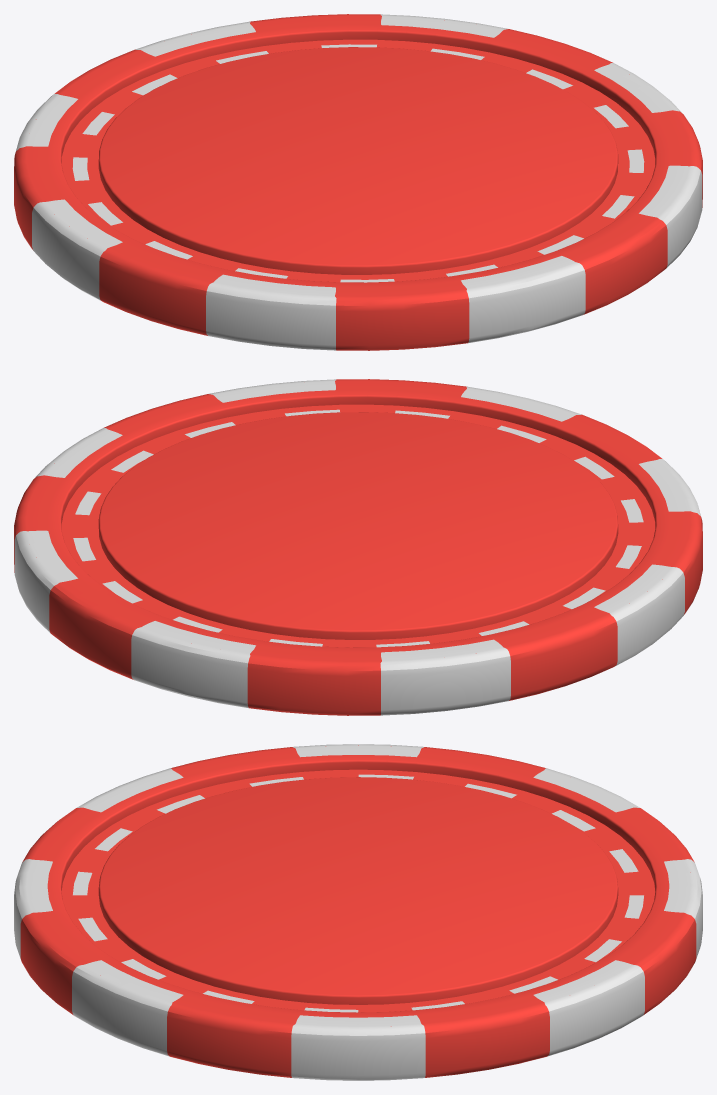
File: chip.fbx
The picture shows the model from 3 angles, top to bottom: view 1: azimuth 30°, elevation 25°; view 2: azimuth 150°, elevation 25°; view 3: azimuth 270°, elevation 25°; orthographic projection.
Visible parts, largest first — view 1: Object_4, Object_5; view 2: Object_4, Object_5; view 3: Object_4, Object_5.
Boxes of the visible parts, box(x1,y1,x2,y2) form: Object_4: box(14, 14, 702, 350); Object_5: box(16, 14, 702, 350); Object_4: box(14, 379, 702, 715); Object_5: box(14, 379, 700, 715); Object_4: box(20, 745, 696, 1077); Object_5: box(14, 744, 702, 1080).
Size of the model in its own units: 174 by 14.48 by 174.
